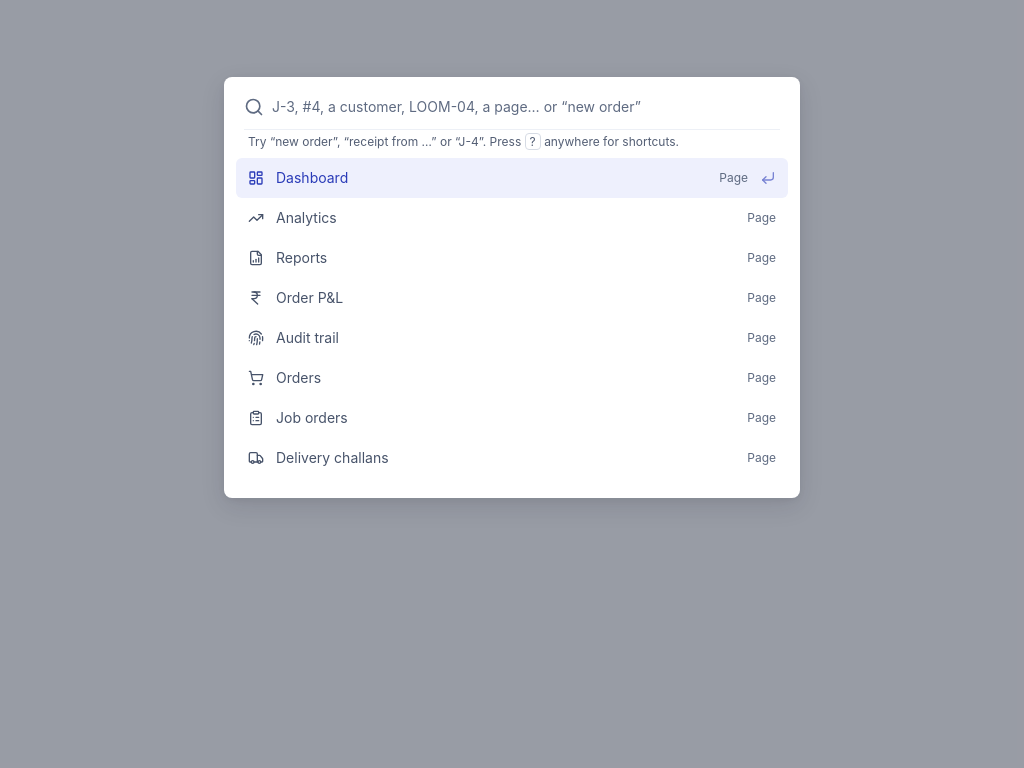
it: GlobalSearch › finds a job the way the app writes it
Type "J-3" into the field named "Search everything" at {"x": 526, "y": 107}, box [272,97,780,117]
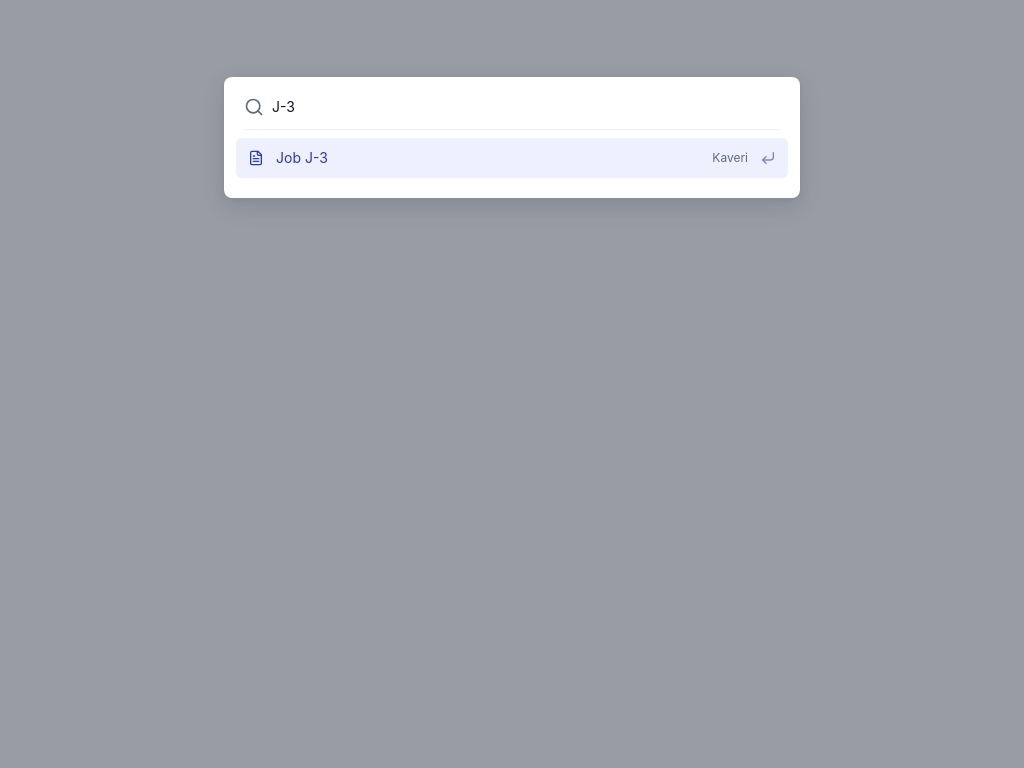
Expected: the text "Job J-3" is shown, [276,149,328,166]
